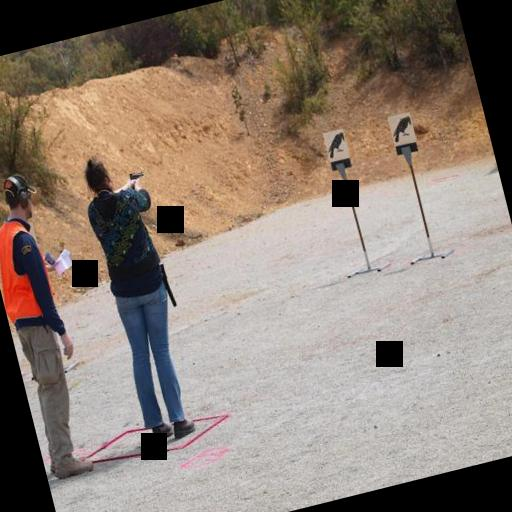Handgun: (124, 166, 148, 188)
